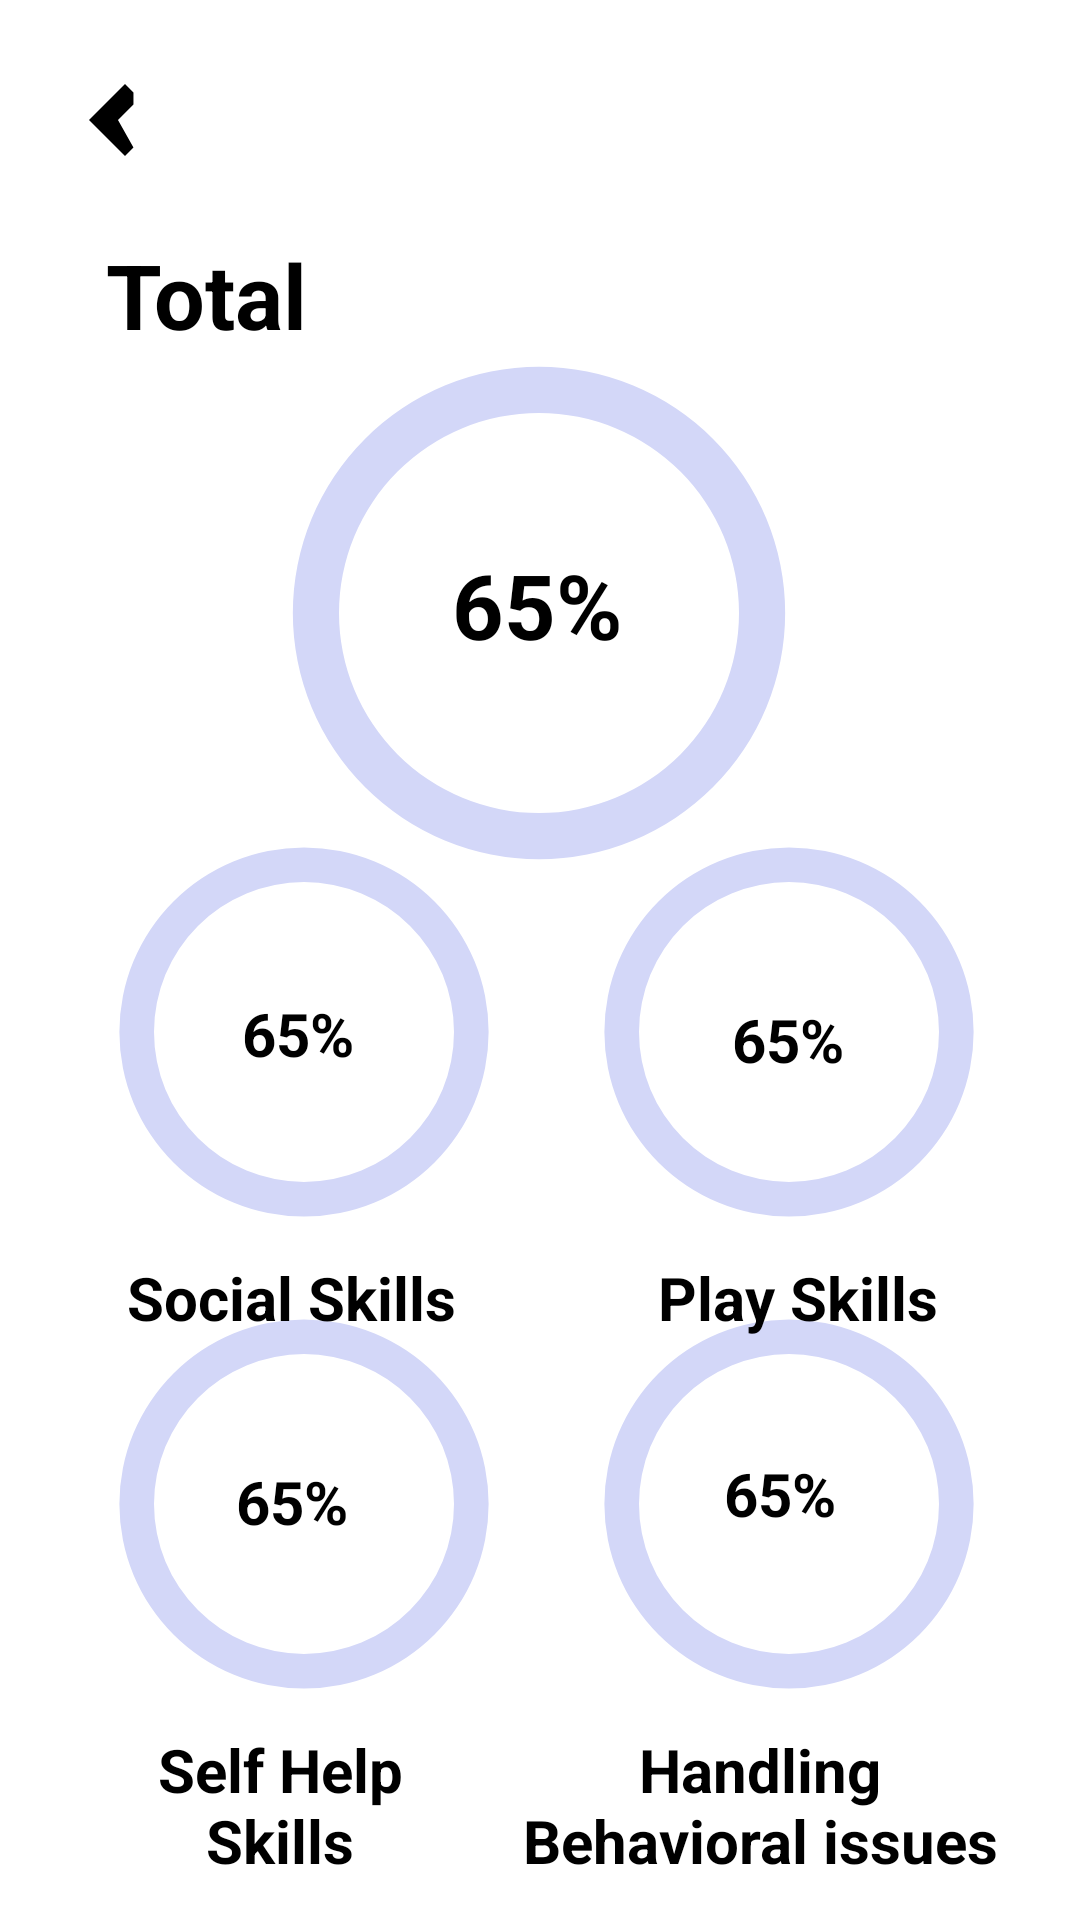

Icons on this 1080w x 1920h Android screen, each with its box as (x1, y1, x2, y2):
back: (89, 84, 134, 156)
